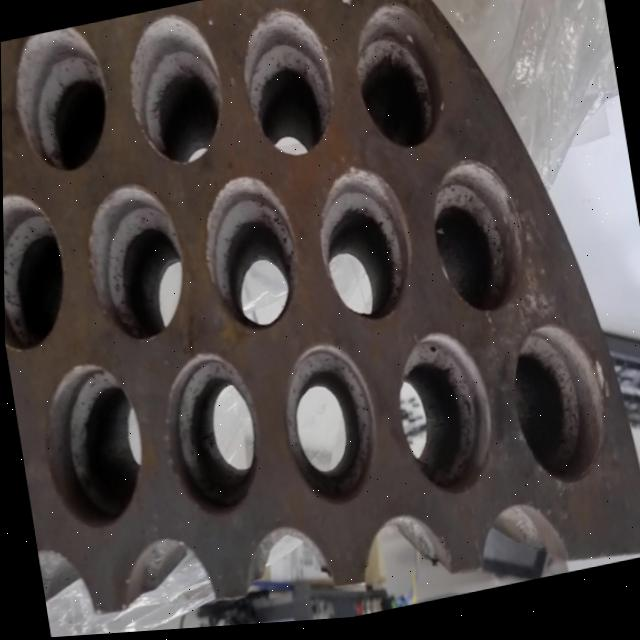Hole: (33, 354, 153, 540), (154, 347, 270, 529), (503, 322, 619, 501), (272, 338, 386, 519), (388, 330, 502, 510), (78, 177, 194, 353), (194, 170, 307, 343), (310, 163, 421, 336), (423, 157, 533, 329), (119, 8, 231, 176), (234, 3, 344, 170), (6, 23, 118, 182), (348, 0, 450, 163), (2, 184, 75, 356)
